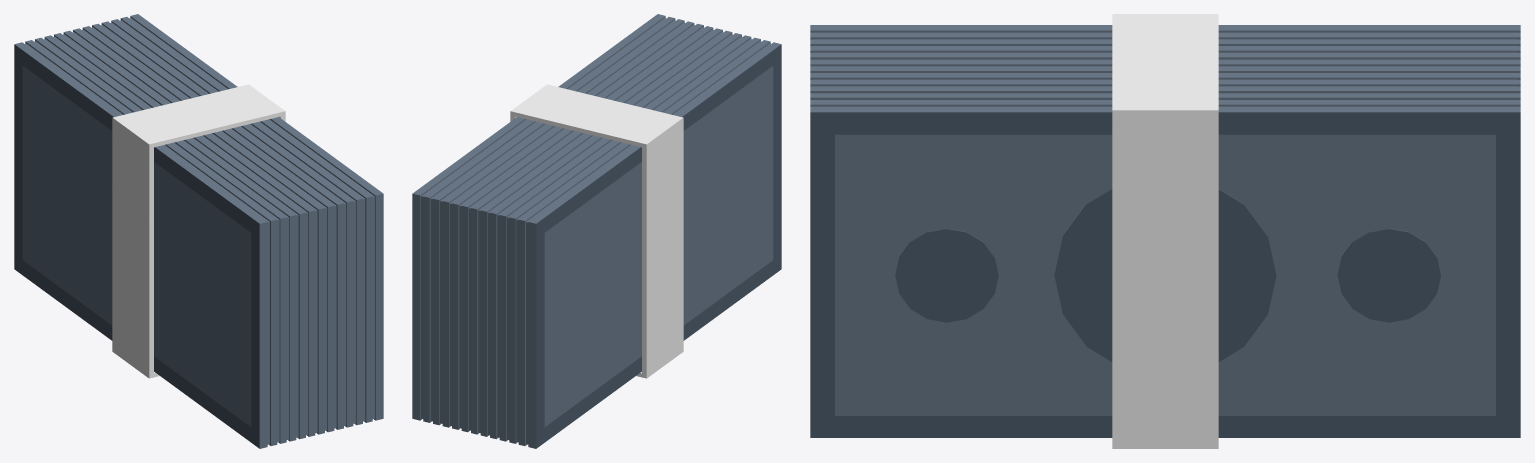
File: gray_money.fbx
The picture shows the model from 3 angles, left to right: view 1: azimuth 30°, elevation 25°; view 2: azimuth 150°, elevation 25°; view 3: azimuth 270°, elevation 25°; orthographic projection. The views are drawn at different scales.
Parts seen in each view (by area): view 1: Cube.002; view 2: Cube.002; view 3: Cube.002.
Boxes of the visible parts, x1,y1,x2,y2 form: Cube.002: (14,14,383,448); Cube.002: (412,14,781,448); Cube.002: (810,14,1520,448).
Bounding box in the file's own units: 64.13 × 105 × 200.
